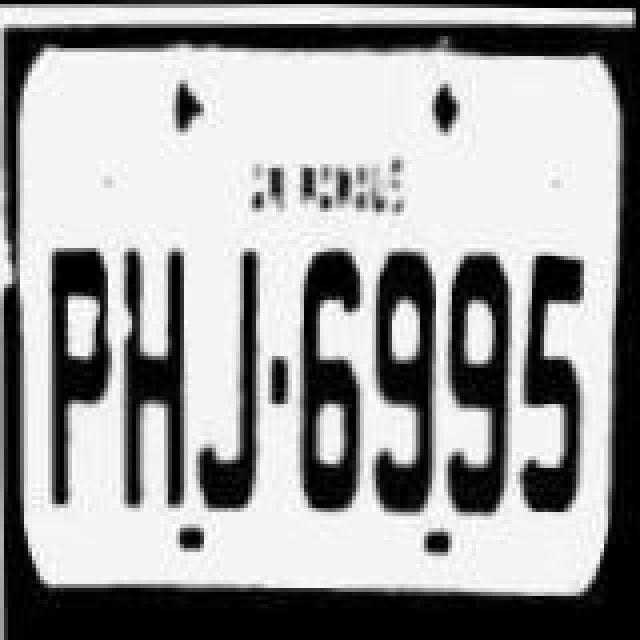5: (522, 252, 610, 512)
6: (290, 248, 374, 512)
9: (446, 254, 526, 514), (374, 246, 450, 510)
H: (110, 246, 198, 514)
J: (186, 248, 270, 512)
P: (34, 246, 122, 514)
